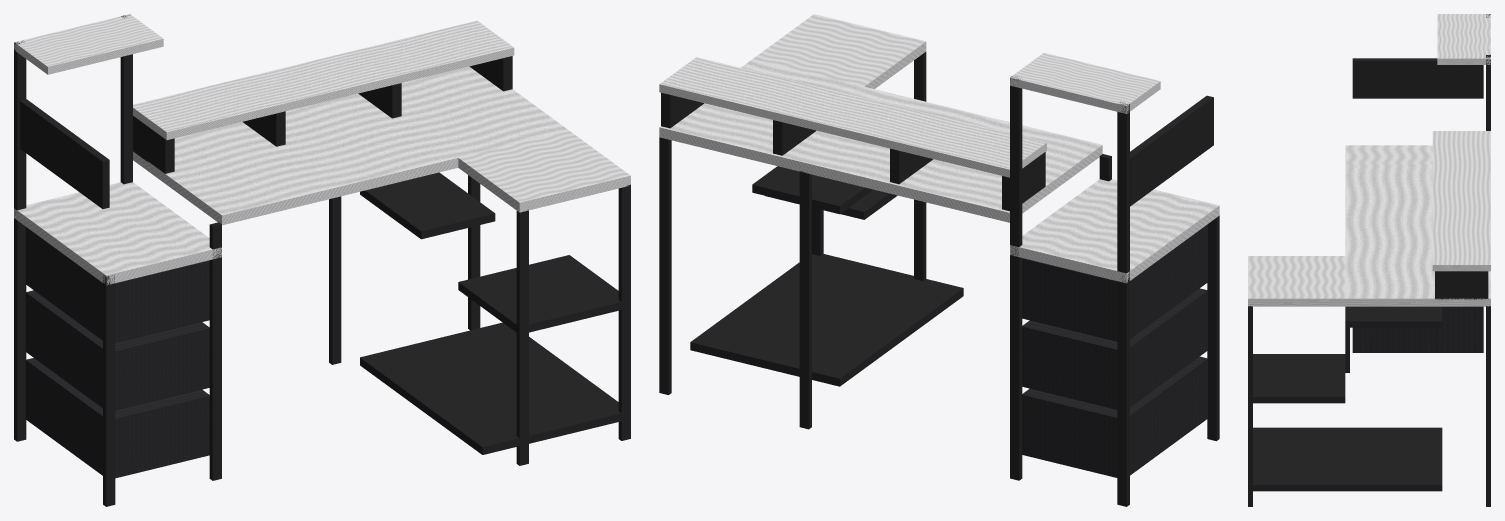
3 renders of one model, left to right at view 1: azimuth 30°, elevation 25°; view 2: azimuth 150°, elevation 25°; view 3: azimuth 270°, elevation 25°, orthographic. The views are drawn at different scales.
Visible parts, largest first — view 1: 1 main_desktop, 18 right_bottom_shelf, 3 monitor_stand_top, 8 drawer_unit_top, 10 drawer_middle, 11 drawer_bottom, 9 drawer_top, 2 right_return_desktop, 19 right_middle_shelf, 20 right_corner_under_shelf, 12 hutch_top_shelf, 13 hutch_pegboard_bar (+12 smaller); view 2: 1 main_desktop, 18 right_bottom_shelf, 3 monitor_stand_top, 11 drawer_bottom, 10 drawer_middle, 8 drawer_unit_top, 9 drawer_top, 2 right_return_desktop, 12 hutch_top_shelf, 15 left_frame_post_back, 17 drawer_unit_right_post_back, 13 hutch_pegboard_bar (+10 smaller); view 3: 1 main_desktop, 18 right_bottom_shelf, 3 monitor_stand_top, 13 hutch_pegboard_bar, 2 right_return_desktop, 19 right_middle_shelf, 11 drawer_bottom, 12 hutch_top_shelf, 20 right_corner_under_shelf, 8 drawer_unit_top, 7 monitor_stand_riser_right, 23 right_leg_back_outer (+2 smaller).
Boxes of the visible parts, x1=… form: 1 main_desktop: x1=133, y1=66, x2=568, y2=225; 18 right_bottom_shelf: x1=360, y1=322, x2=630, y2=454; 3 monitor_stand_top: x1=133, y1=20, x2=514, y2=139; 8 drawer_unit_top: x1=14, y1=182, x2=221, y2=285; 10 drawer_middle: x1=25, y1=290, x2=209, y2=410; 11 drawer_bottom: x1=25, y1=358, x2=209, y2=478; 9 drawer_top: x1=25, y1=227, x2=209, y2=343; 2 right_return_desktop: x1=458, y1=130, x2=630, y2=212; 19 right_middle_shelf: x1=458, y1=255, x2=630, y2=334; 20 right_corner_under_shelf: x1=360, y1=172, x2=495, y2=239; 12 hutch_top_shelf: x1=14, y1=14, x2=163, y2=74; 13 hutch_pegboard_bar: x1=20, y1=99, x2=109, y2=208; 1 main_desktop: x1=659, y1=59, x2=1102, y2=222; 18 right_bottom_shelf: x1=690, y1=254, x2=963, y2=386; 3 monitor_stand_top: x1=659, y1=57, x2=1046, y2=177; 11 drawer_bottom: x1=1022, y1=356, x2=1207, y2=477; 10 drawer_middle: x1=1022, y1=288, x2=1207, y2=409; 8 drawer_unit_top: x1=1010, y1=179, x2=1219, y2=283; 9 drawer_top: x1=1022, y1=224, x2=1207, y2=341; 2 right_return_desktop: x1=752, y1=14, x2=926, y2=88; 12 hutch_top_shelf: x1=1010, y1=52, x2=1160, y2=113; 15 left_frame_post_back: x1=1117, y1=102, x2=1129, y2=506; 17 drawer_unit_right_post_back: x1=1010, y1=76, x2=1022, y2=480; 13 hutch_pegboard_bar: x1=1130, y1=95, x2=1213, y2=206; 1 main_desktop: x1=1345, y1=164, x2=1490, y2=306; 18 right_bottom_shelf: x1=1248, y1=427, x2=1442, y2=491; 3 monitor_stand_top: x1=1432, y1=131, x2=1490, y2=271; 13 hutch_pegboard_bar: x1=1352, y1=58, x2=1483, y2=98; 2 right_return_desktop: x1=1248, y1=256, x2=1345, y2=306; 19 right_middle_shelf: x1=1248, y1=354, x2=1345, y2=403; 11 drawer_bottom: x1=1352, y1=306, x2=1483, y2=352; 12 hutch_top_shelf: x1=1437, y1=14, x2=1490, y2=64; 20 right_corner_under_shelf: x1=1345, y1=306, x2=1442, y2=327; 8 drawer_unit_top: x1=1345, y1=145, x2=1432, y2=164; 7 monitor_stand_riser_right: x1=1435, y1=271, x2=1488, y2=299; 23 right_leg_back_outer: x1=1486, y1=306, x2=1490, y2=506.
Bounding box in the file's own units: 1.22 × 1 × 0.7.
Materials: 3 (2 with a texture image).
